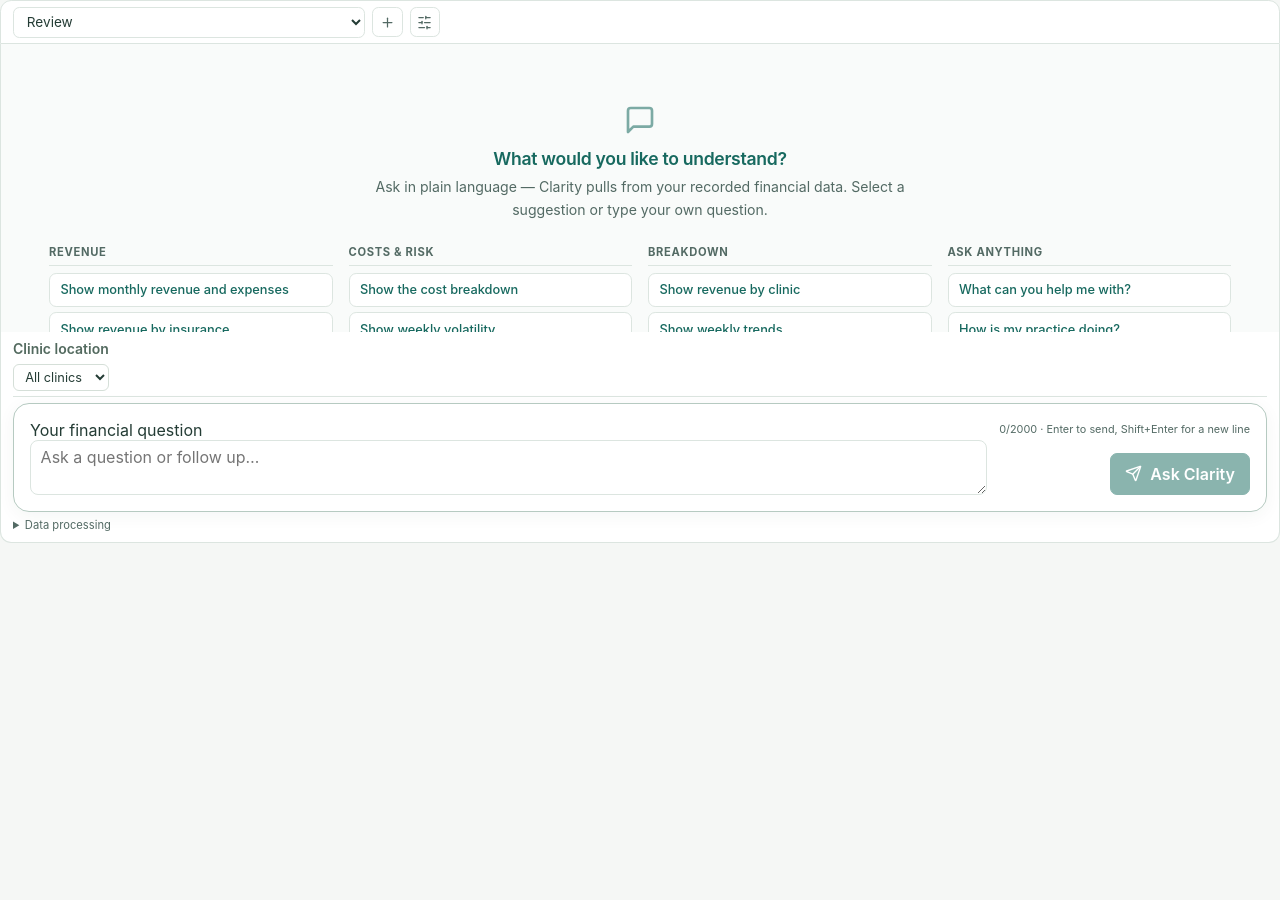
Test: keeps a successful answer when the post-send history refresh fails
The width and height of the screenshot is (1280, 900).
Type "Show monthly trends" into the text box labelled "Your financial question" at (509, 467), box x1=30 y1=440 x2=987 y2=495
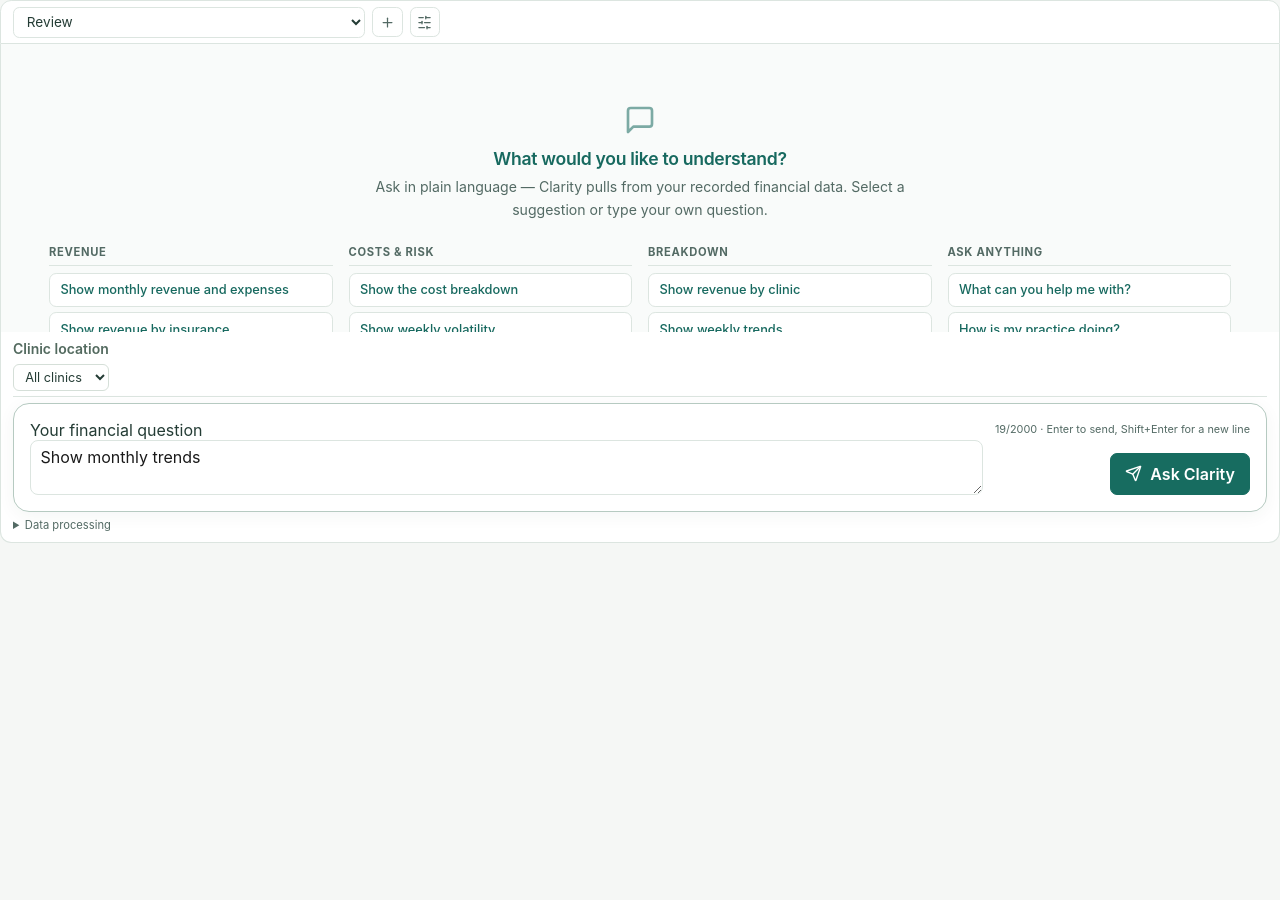
Click the button "Ask Clarity" at (1180, 474), box x1=1110 y1=452 x2=1250 y2=494
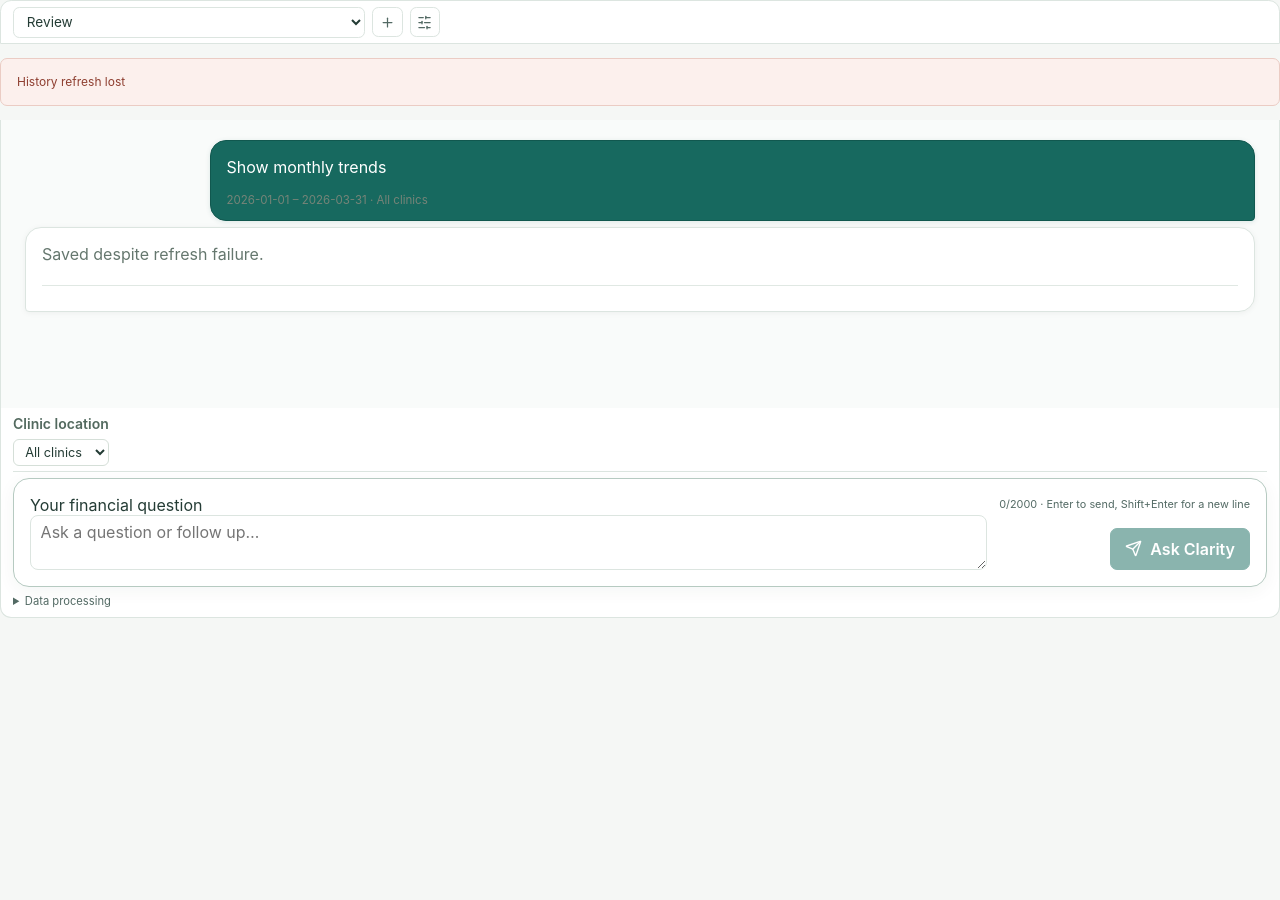
Now the text "Saved despite refresh failure." is shown, box x1=42 y1=244 x2=264 y2=264
Now the text "History refresh lost" is shown, box x1=17 y1=74 x2=125 y2=89
